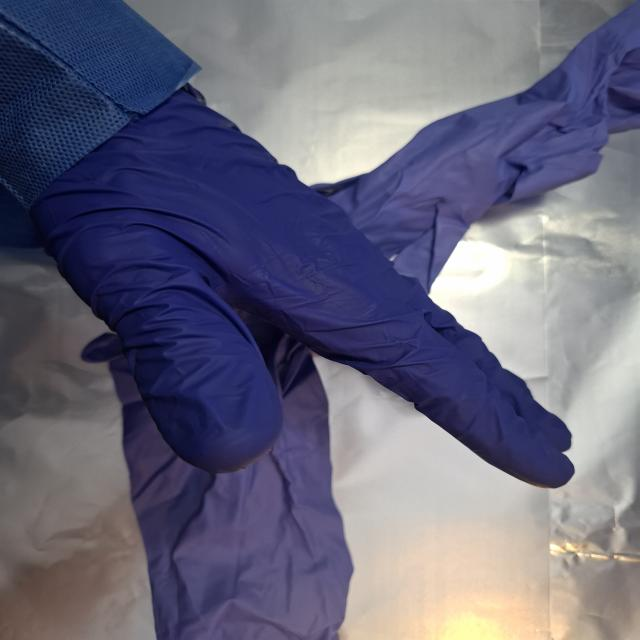glove_on: (19, 88, 578, 493)
